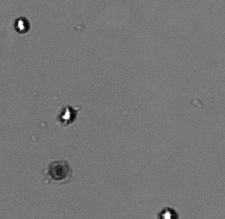Dead Cell: (47, 158, 73, 182)
Living Cell: (55, 104, 78, 125), (12, 15, 31, 35)
